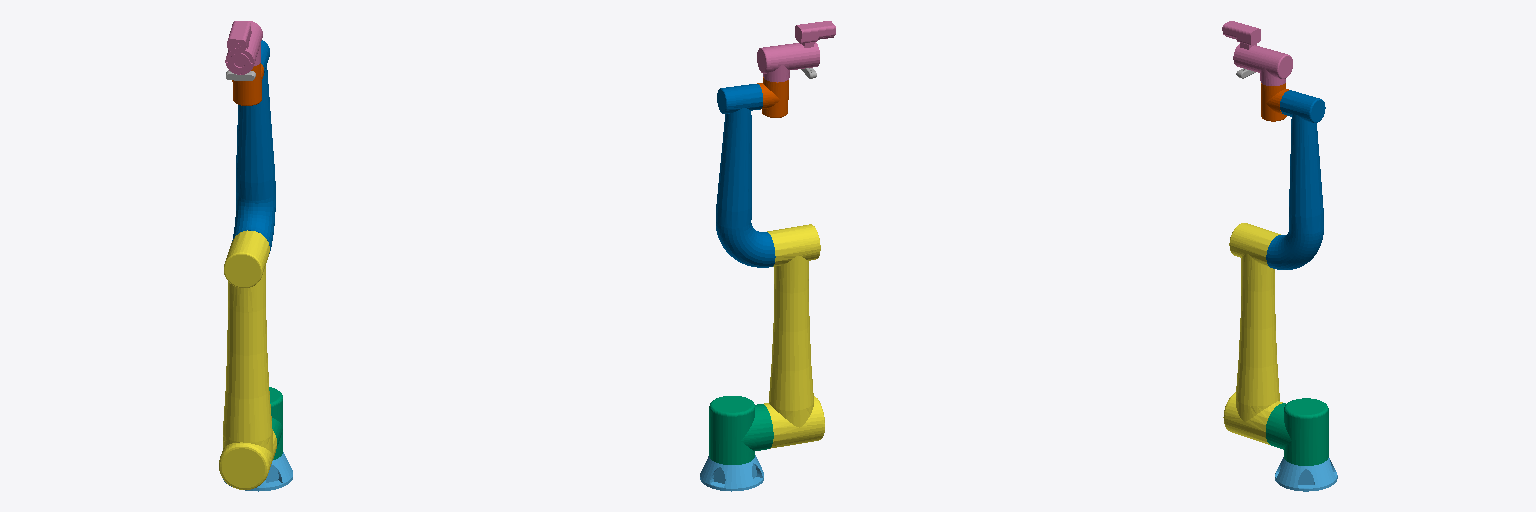
robot.urdf — tm20:
<?xml version="1.0" encoding="utf-8"?>
<robot name="tm20">

  <ros2_control name="gz_ros2_control" type="system">
    <hardware>
      <plugin>gz_ros2_control/GazeboSimSystem</plugin>
    </hardware>
    <joint name="joint_1">
      <command_interface name="position" />
      <state_interface name="position">
        <param name="initial_value">0.0</param>
      </state_interface>
      <state_interface name="velocity" />
    </joint>
    <joint name="joint_2">
      <command_interface name="position" />
      <state_interface name="position">
        <param name="initial_value">0.0</param>
      </state_interface>
      <state_interface name="velocity" />
    </joint>
    <joint name="joint_3">
      <command_interface name="position" />
      <state_interface name="position">
        <param name="initial_value">0.0</param>
      </state_interface>
      <state_interface name="velocity" />
    </joint>
    <joint name="joint_4">
      <command_interface name="position" />
      <state_interface name="position">
        <param name="initial_value">0.0</param>
      </state_interface>
      <state_interface name="velocity" />
    </joint>
    <joint name="joint_5">
      <command_interface name="position" />
      <state_interface name="position">
        <param name="initial_value">0.0</param>
      </state_interface>
      <state_interface name="velocity" />
    </joint>
  </ros2_control>

  <link name="world" />
  <joint name="world_joint" type="fixed">
    <parent link="world" />
    <child link="base_link" />
    <origin xyz="0 0 0" rpy="0 0 0" />
  </joint>

  <link name="base_link">
    <inertial>
      <origin xyz="-0.04007 -0.03016 0.00037" rpy="0 0 0" />
      <mass value="1.886" />
      <inertia ixx="0.005" ixy="0" ixz="0" iyy="0.008" iyz="0" izz="0.005" />
    </inertial>
    <visual>
      <geometry>
        <mesh filename="package://tm20/meshes/base_link.STL" />
      </geometry>
    </visual>
    <collision>
      <origin xyz="0 0 0.05" rpy="0 0 0" />
      <geometry>
        <cylinder radius="0.1" length="0.1" />
      </geometry>
    </collision>
  </link>

  <link name="link_1">
    <inertial>
      <origin xyz="0.01897 0.09227 0" rpy="0 0 0" />
      <mass value="4.057" />
      <inertia ixx="0.016" ixy="0.0005" ixz="0" iyy="0.016" iyz="0" izz="0.020" />
    </inertial>
    <visual>
      <geometry>
        <mesh filename="package://tm20/meshes/link_1.STL" />
      </geometry>
    </visual>
    <collision>
      <origin xyz="0 0.1 0" rpy="1.5708 0 0" />
      <geometry>
        <cylinder radius="0.08" length="0.2" />
      </geometry>
    </collision>
  </link>

  <joint name="joint_1" type="revolute">
    <origin xyz="-0.04007 -0.00037 0.01545" rpy="1.5708 0 -2.2375" />
    <parent link="base_link" />
    <child link="link_1" />
    <axis xyz="0 1 0" />
    <limit lower="-4.71" upper="4.71" effort="100" velocity="10.0" />
  </joint>

  <link name="link_2">
    <inertial>
      <origin xyz="0 0.2641 -0.0656" rpy="0 0 0" />
      <mass value="11.25" />
      <inertia ixx="0.640" ixy="0" ixz="0" iyy="0.031" iyz="0.0001" izz="0.634" />
    </inertial>
    <visual>
      <geometry>
        <mesh filename="package://tm20/meshes/link_2.STL" />
      </geometry>
    </visual>
    <collision>
      <origin xyz="0 0.26 0" rpy="1.5708 0 0" />
      <geometry>
        <cylinder radius="0.08" length="0.55" />
      </geometry>
    </collision>
  </link>

  <joint name="joint_2" type="revolute">
    <origin xyz="0.18555 0.085 0" rpy="1.5708 -1.5658 -1.5708" />
    <parent link="link_1" />
    <child link="link_2" />
    <axis xyz="0 0 1" />
    <limit lower="-3.14" upper="3.14" effort="100" velocity="0.1" />
  </joint>

  <link name="link_3">
    <inertial>
      <origin xyz="-0.17349 0.238 0" rpy="0 0 0" />
      <mass value="6.177" />
      <inertia ixx="0.221" ixy="0.02" ixz="0" iyy="0.014" iyz="0" izz="0.227" />
    </inertial>
    <visual>
      <geometry>
        <mesh filename="package://tm20/meshes/link_3.STL" />
      </geometry>
    </visual>
    <collision>
      <origin xyz="0 0.26 0" rpy="1.5708 0 0" />
      <geometry>
        <cylinder radius="0.06" length="0.55" />
      </geometry>
    </collision>
  </link>

  <joint name="joint_3" type="revolute">
    <origin xyz="0 0.6361 0" rpy="-1.5708 1.5312 -1.5797" />
    <parent link="link_2" />
    <child link="link_3" />
    <axis xyz="1 0 0" />
    <limit lower="-2.9" upper="2.9" effort="100" velocity="10.0" />
  </joint>

  <link name="link_4">
    <inertial>
      <origin xyz="0.066 -0.0037 0" rpy="0 0 0" />
      <mass value="0.84" />
      <inertia ixx="0.0014" ixy="0" ixz="0" iyy="0.0009" iyz="0" izz="0.0016" />
    </inertial>
    <visual>
      <geometry>
        <mesh filename="package://tm20/meshes/link_4.STL" />
      </geometry>
    </visual>
    <collision>
      <origin xyz="0 0 0" rpy="1.5708 0 0" />
      <geometry>
        <cylinder radius="0.05" length="0.15" />
      </geometry>
    </collision>
  </link>

  <joint name="joint_4" type="revolute">
    <origin xyz="0 0.55558 0" rpy="3.1399 0 3.1416" />
    <parent link="link_3" />
    <child link="link_4" />
    <axis xyz="1 0 0" />
    <limit lower="-3.14" upper="3.14" effort="100" velocity="10.0" />
  </joint>

  <link name="link_5">
    <inertial>
      <origin xyz="-0.08 0 0.055" rpy="0 0 0" />
      <mass value="1.58" />
      <inertia ixx="0.0048" ixy="0" ixz="0.0003" iyy="0.0051" iyz="0" izz="0.0016" />
    </inertial>
    <visual>
      <geometry>
        <mesh filename="package://tm20/meshes/link_5.STL" />
      </geometry>
    </visual>
    <collision>
      <origin xyz="0 0 0" rpy="0 0 0" />
      <geometry>
        <cylinder radius="0.05" length="0.15" />
      </geometry>
    </collision>
  </link>

  <joint name="joint_5" type="revolute">
    <origin xyz="0.060207 0.058537 0" rpy="1.5672 0 -1.5708" />
    <parent link="link_4" />
    <child link="link_5" />
    <axis xyz="1 0 0" />
    <limit lower="-3.14" upper="3.14" effort="100" velocity="10.0" />
  </joint>

  <link name="link_6">
    <inertial>
      <origin xyz="0 0 -0.013" rpy="0 0 0" />
      <mass value="0.044" />
      <inertia ixx="0.0001" ixy="0" ixz="0" iyy="0.0001" iyz="0" izz="0.0001" />
    </inertial>
    <visual>
      <geometry>
        <mesh filename="package://tm20/meshes/link_6.STL" />
      </geometry>
    </visual>
    <collision>
      <origin xyz="0 0 0.02" rpy="0 0 0" />
      <geometry>
        <box size="0.025 0.09 0.025" />
      </geometry>
    </collision>
  </link>

  <joint name="joint_6" type="fixed">
    <origin xyz="-0.012154 -0.0020165 0.12472" rpy="-0.0098957 -0.016364 1.5871" />
    <parent link="link_5" />
    <child link="link_6" />
    <axis xyz="0 0 1" />
    <limit lower="-6.28" upper="6.28" effort="50" velocity="10.0" />
  </joint>

  <gazebo reference="link_6">
    <sensor type="rgbd_camera" name="intel_d435">
      <pose>0 0 0 -1.5708 0 0</pose>
      <always_on>true</always_on>
      <update_rate>30.0</update_rate>
      <topic>camera/depth_image</topic>
      <camera>
        <horizontal_fov>1.50098</horizontal_fov>
        <image><width>640</width><height>480</height></image>
        <clip><near>0.1</near><far>10.0</far></clip>
      </camera>
    </sensor>
  </gazebo>

  <gazebo>  
    <plugin filename="libgz_ros2_control-system.so" name="gz_ros2_control::GazeboSimROS2ControlPlugin">
      <parameters>CONTROLLER_PARAMS_FILE</parameters>
    </plugin>
    <plugin filename="gz-sim-sensors-system" name="gz::sim::systems::Sensors">
      <render_engine>ogre2</render_engine>
    </plugin>
  </gazebo>

  <gazebo reference="base_link">
    <visual>
      <material>
        <ambient>0.5 0.5 0.5 1</ambient>
        <diffuse>0.5 0.5 0.5 1</diffuse>
        <specular>0.1 0.1 0.1 1</specular>
      </material>
    </visual>
  </gazebo>
</robot>

--- Render facts (derived) ---
3 views of the same robot in one strip: view 1: azimuth 30°, elevation 25°; view 2: azimuth 150°, elevation 25°; view 3: azimuth 270°, elevation 25° (orthographic).
Robot: tm20 — 8 links, 7 joints (5 revolute, 2 fixed); root link world; default pose: every joint at zero.
Links seen in each view (by area): view 1: link_2, link_3, link_5, link_4, base_link, link_1; view 2: link_2, link_3, link_1, link_5, base_link, link_4; view 3: link_2, link_3, link_1, link_5, base_link, link_4.
Boxes of the visible links, <box> form: link_2: <box>219,230,276,489</box>; link_3: <box>232,40,275,253</box>; link_5: <box>225,21,262,74</box>; link_4: <box>232,63,263,105</box>; base_link: <box>223,452,292,491</box>; link_1: <box>269,387,282,459</box>; link_2: <box>764,224,824,448</box>; link_3: <box>716,84,775,267</box>; link_1: <box>709,396,773,464</box>; link_5: <box>757,21,835,82</box>; base_link: <box>700,455,763,491</box>; link_4: <box>757,77,788,117</box>; link_2: <box>1223,223,1282,444</box>; link_3: <box>1266,90,1325,269</box>; link_1: <box>1266,398,1328,465</box>; link_5: <box>1222,21,1292,85</box>; base_link: <box>1275,457,1337,491</box>; link_4: <box>1261,83,1288,121</box>.
Size in the robot's own frame: 0.3515 by 0.3861 by 1.59 metres.
Meshes: 7 distinct files referenced, 7 mesh visuals loaded (7 binary STL).
